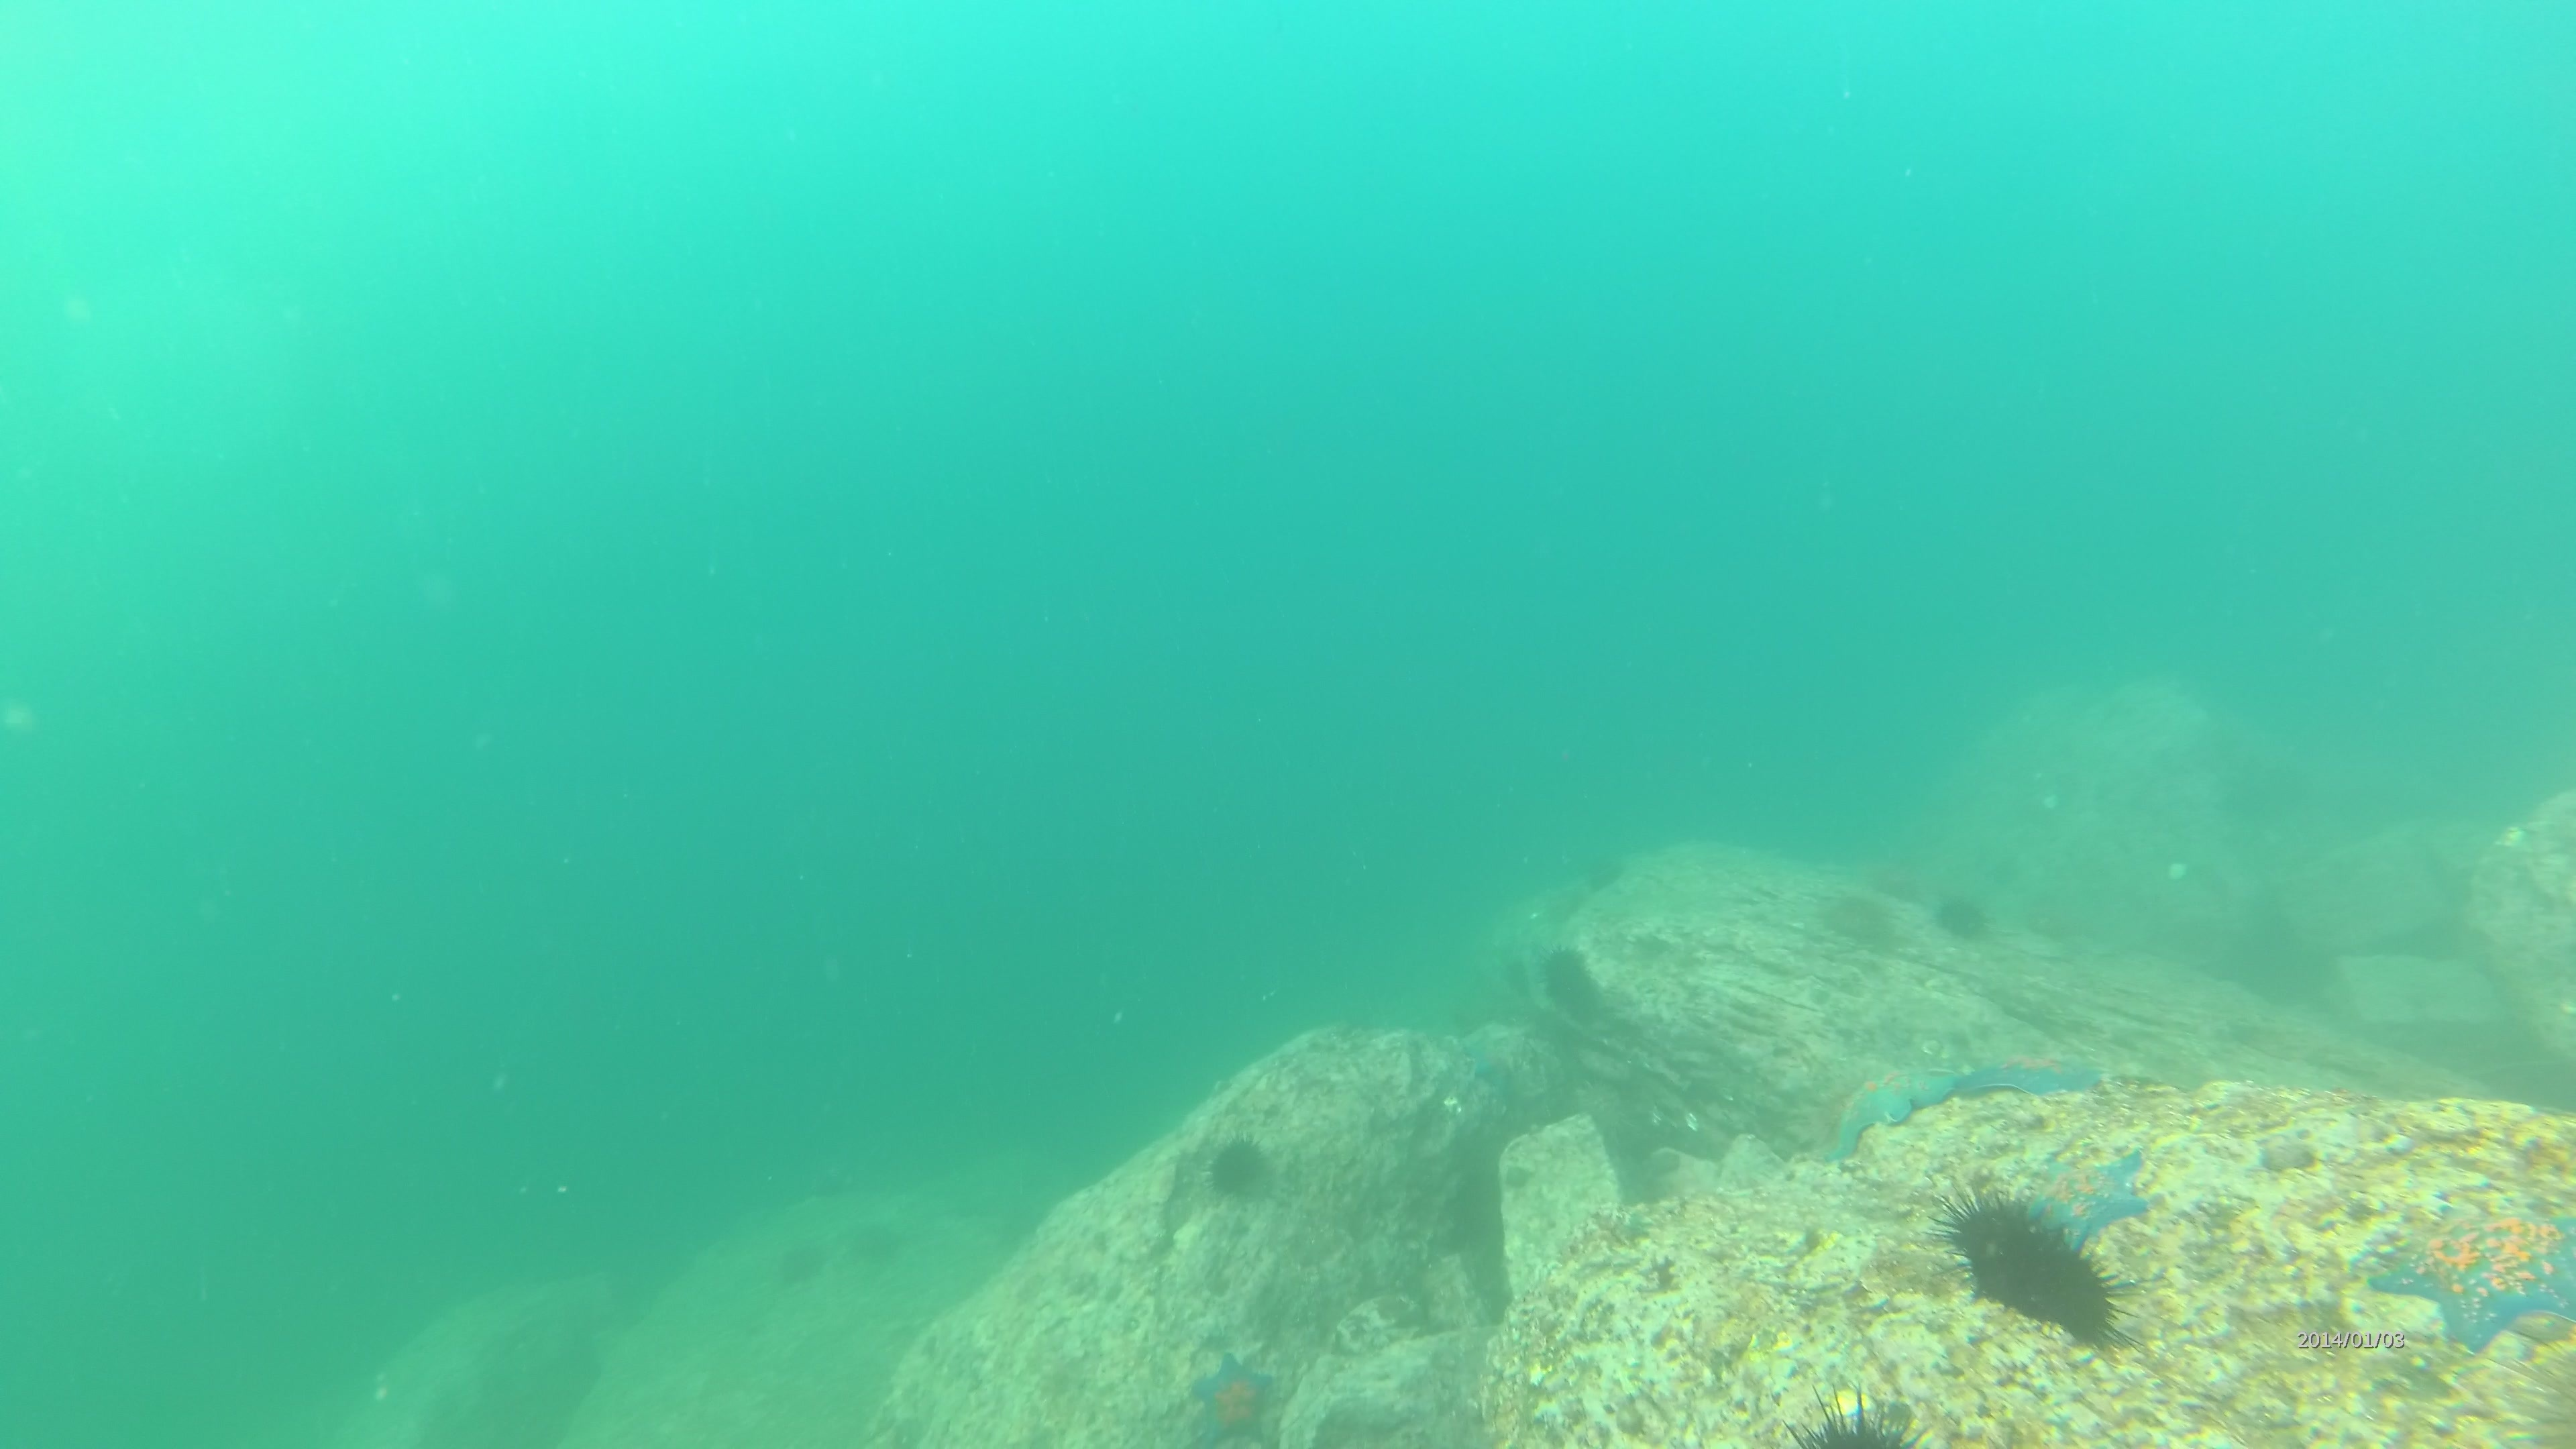echinus: (1943, 1187, 2143, 1371), (1775, 1380, 1920, 1449), (1200, 1132, 1279, 1214), (1821, 879, 1895, 959), (1529, 941, 1598, 1012), (1928, 885, 1996, 957), (768, 1228, 839, 1292), (828, 1208, 897, 1272), (1564, 844, 1638, 897)
starfish: (2365, 1201, 2576, 1355), (2019, 1136, 2166, 1249), (1826, 1067, 1969, 1175), (1182, 1348, 1283, 1449), (1967, 1046, 2114, 1106)
